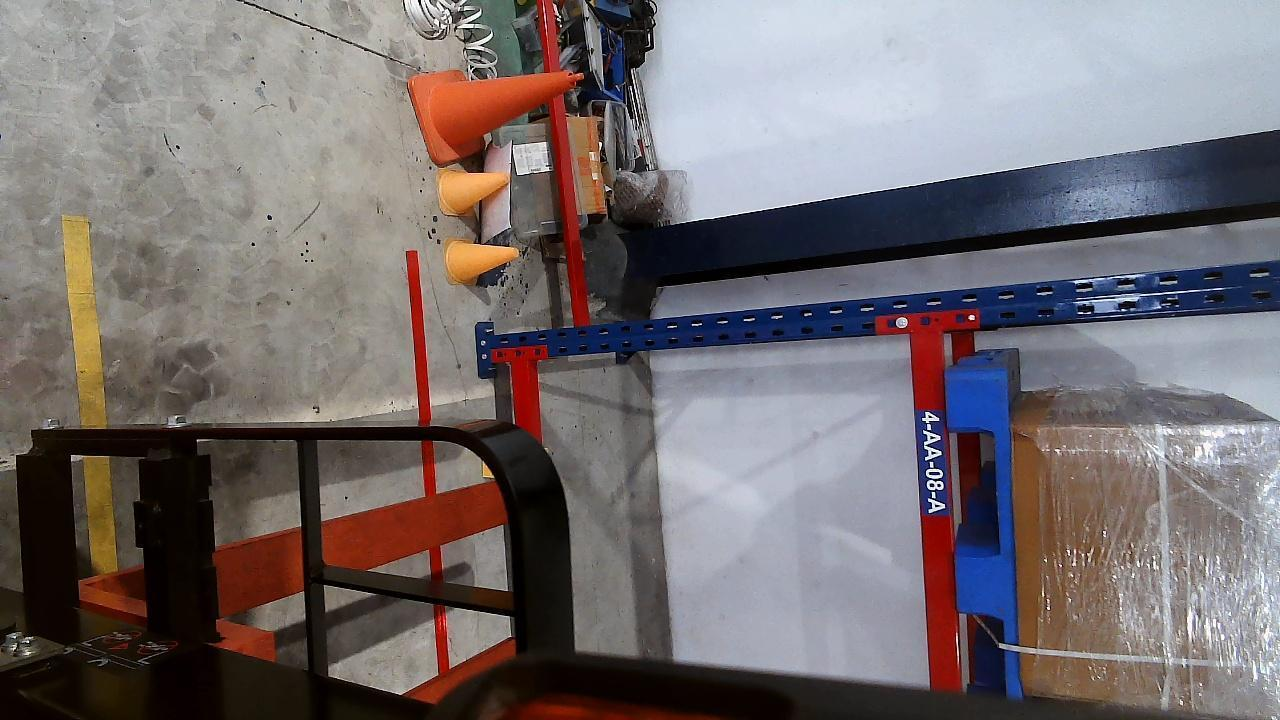red_line: (404, 250, 447, 494)
yellow_line: (60, 214, 122, 571)
